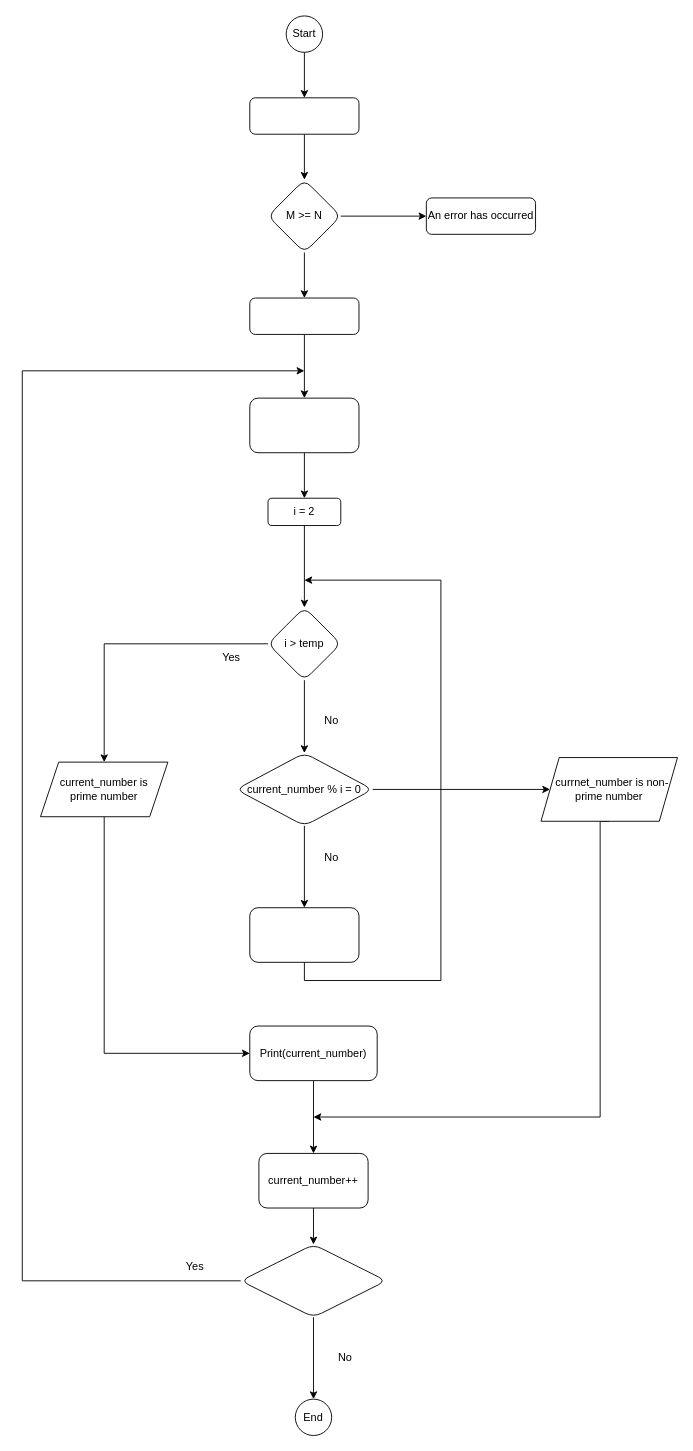
Some shapes in this 693 by 1451 pixel diagram are drawn without their labels. The shapes that lost their labels are listed below. From the top down, each one's centre as x and y in pixels, then its label:
At (304,115): "Input N, M".
At (304,315): "current_number = N".
At (304,425): "temp = current_number / 2".
At (304,934): "i++".
At (313,1280): "M >= current_number".
